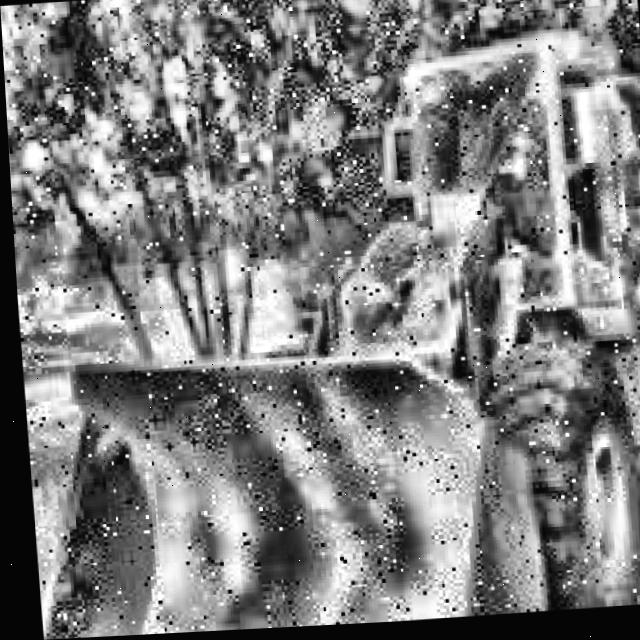buldozerpayloadergrader: (2, 8, 640, 640)
